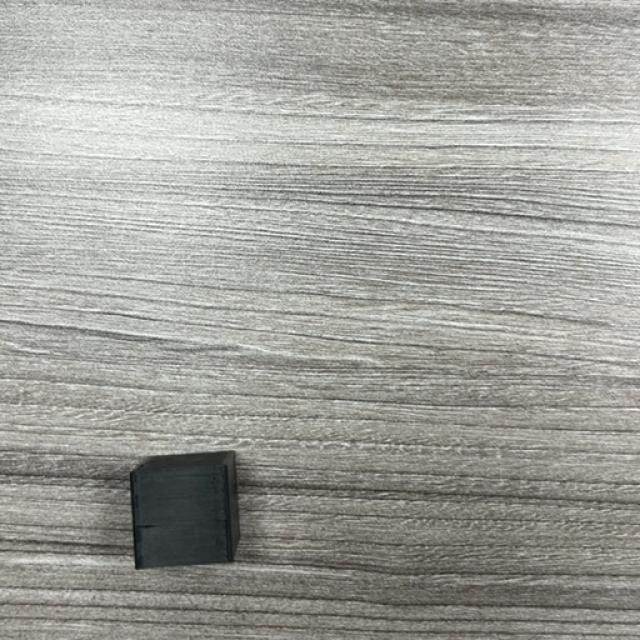Negro: (128, 451, 241, 571)
